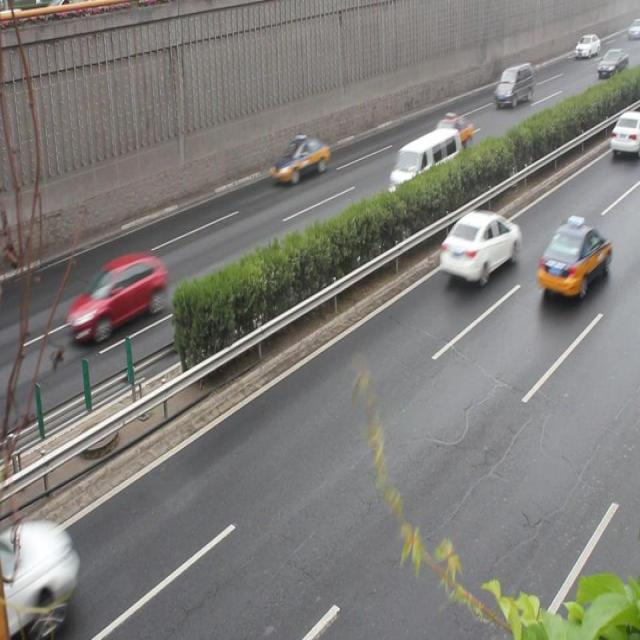car: (66, 249, 165, 341), (536, 221, 609, 299), (440, 211, 518, 283), (268, 134, 330, 186), (424, 114, 472, 154), (607, 110, 640, 154)
truck: (389, 128, 461, 193), (493, 63, 532, 109)
